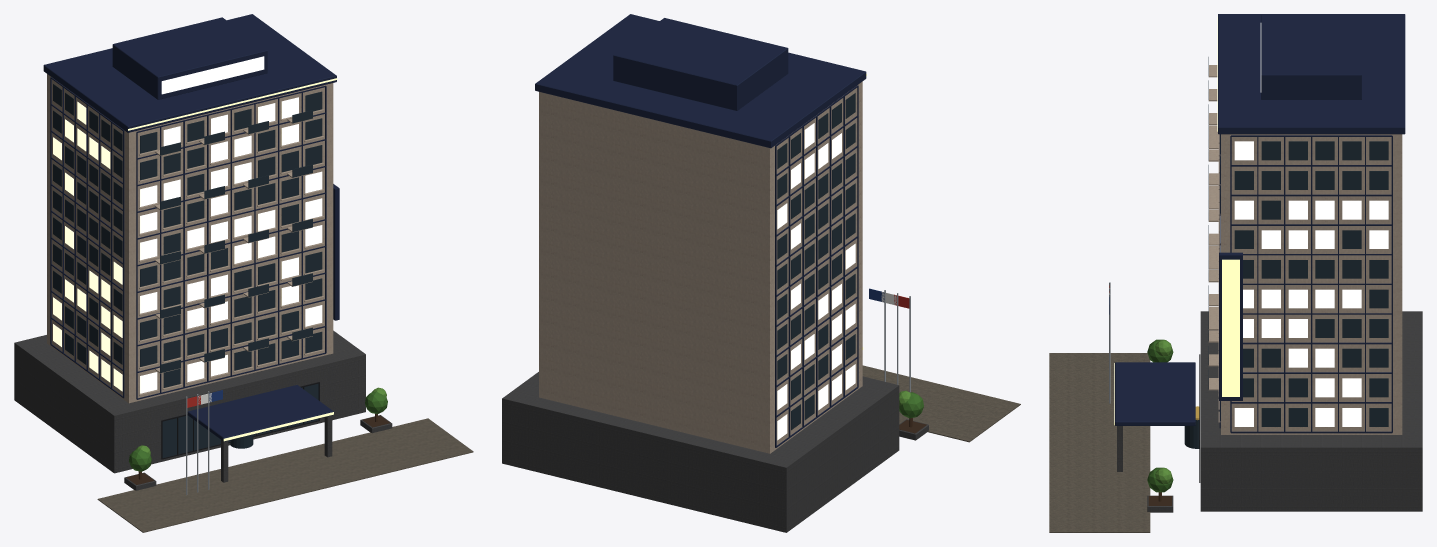
File: OT_Hotel_A.glb
The picture shows the model from 3 angles, left to right: view 1: azimuth 30°, elevation 25°; view 2: azimuth 150°, elevation 25°; view 3: azimuth 270°, elevation 25°; orthographic projection. The views are drawn at different scales.
Visible parts, largest first — view 1: OT_Hotel_A_Limestone, OT_Hotel_A_HotelNavy__1b2440, OT_Hotel_A_Glass__22303a, OT_Hotel_A_Granite, OT_Hotel_A_Pavement, OT_Hotel_A_InteriorWarm__ffdca8, OT_Hotel_A_SignWhiteGlow__f4f8ff, OT_Hotel_A_GoldGlow__ffd27a, OT_Hotel_A_Leaf__3f6e2c, OT_Hotel_A_SteelGrey__9aa0a6, OT_Hotel_A_Frame__18191c; view 2: OT_Hotel_A_Limestone, OT_Hotel_A_Granite, OT_Hotel_A_HotelNavy__1b2440, OT_Hotel_A_Glass__22303a, OT_Hotel_A_Pavement, OT_Hotel_A_InteriorWarm__ffdca8; view 3: OT_Hotel_A_HotelNavy__1b2440, OT_Hotel_A_Limestone, OT_Hotel_A_Granite, OT_Hotel_A_Pavement, OT_Hotel_A_Glass__22303a, OT_Hotel_A_InteriorWarm__ffdca8, OT_Hotel_A_GoldGlow__ffd27a, OT_Hotel_A_Leaf__3f6e2c, OT_Hotel_A_Leaf2__58893a.
Part boxes in pixels (box(x1,y1,x2,y2)): OT_Hotel_A_Limestone: box(47, 74, 333, 403); OT_Hotel_A_HotelNavy__1b2440: box(43, 14, 339, 441); OT_Hotel_A_Glass__22303a: box(53, 84, 322, 457); OT_Hotel_A_Granite: box(14, 330, 392, 490); OT_Hotel_A_Pavement: box(97, 418, 473, 532); OT_Hotel_A_InteriorWarm__ffdca8: box(53, 97, 322, 393); OT_Hotel_A_SignWhiteGlow__f4f8ff: box(161, 56, 264, 94); OT_Hotel_A_GoldGlow__ffd27a: box(128, 78, 337, 441); OT_Hotel_A_Leaf__3f6e2c: box(129, 391, 387, 471); OT_Hotel_A_SteelGrey__9aa0a6: box(186, 391, 209, 495); OT_Hotel_A_Frame__18191c: box(161, 382, 319, 459); OT_Hotel_A_Limestone: box(539, 81, 862, 453); OT_Hotel_A_Granite: box(502, 372, 928, 532); OT_Hotel_A_HotelNavy__1b2440: box(535, 14, 866, 447); OT_Hotel_A_Glass__22303a: box(777, 93, 855, 430); OT_Hotel_A_Pavement: box(862, 365, 1020, 442); OT_Hotel_A_InteriorWarm__ffdca8: box(777, 123, 855, 440); OT_Hotel_A_HotelNavy__1b2440: box(1115, 14, 1405, 433); OT_Hotel_A_Limestone: box(1208, 65, 1402, 434); OT_Hotel_A_Granite: box(1117, 311, 1422, 512); OT_Hotel_A_Pavement: box(1049, 353, 1150, 532); OT_Hotel_A_Glass__22303a: box(1184, 57, 1388, 448); OT_Hotel_A_InteriorWarm__ffdca8: box(1200, 141, 1388, 481); OT_Hotel_A_GoldGlow__ffd27a: box(1114, 16, 1239, 425); OT_Hotel_A_Leaf__3f6e2c: box(1147, 339, 1173, 492); OT_Hotel_A_Leaf2__58893a: box(1155, 340, 1172, 484).
Size of the model in its own units: 42 by 43.6 by 37.
Materials: 19 (3 with a texture image).
